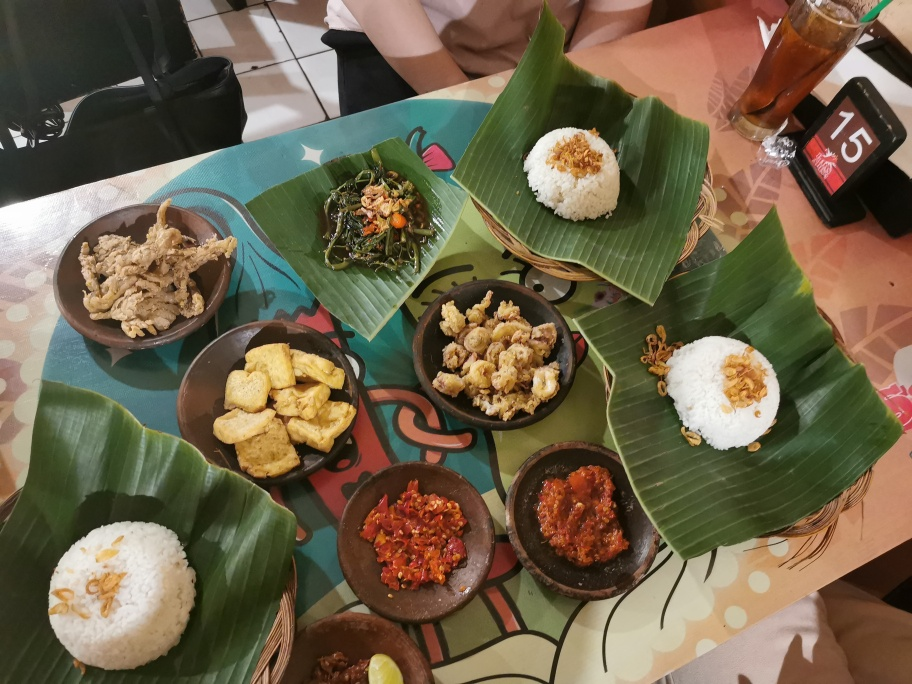nasi putih: (40, 512, 200, 675), (671, 320, 783, 460), (523, 122, 630, 227)
